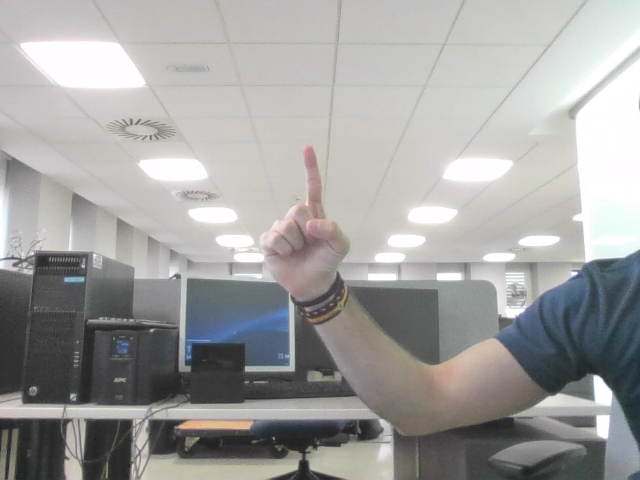1Dedo: (271, 156, 335, 262)
